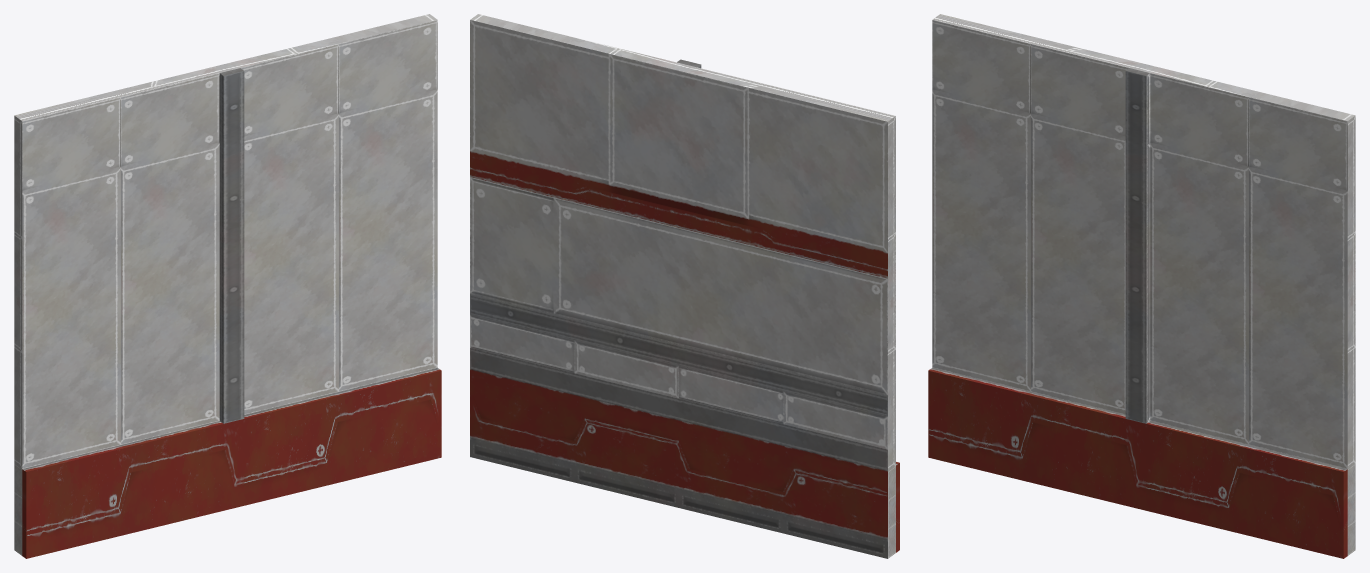
The model's file is SM_Wall_Standard_A.fbx.
The picture shows the model from 3 angles, left to right: view 1: azimuth 30°, elevation 25°; view 2: azimuth 150°, elevation 25°; view 3: azimuth 330°, elevation 25°; orthographic projection.
Visible parts, largest first — view 1: SM_Wall_Standard_A; view 2: SM_Wall_Standard_A; view 3: SM_Wall_Standard_A.
Part boxes in pixels (x1,y1,x2,y2): SM_Wall_Standard_A: [14, 14, 441, 558]; SM_Wall_Standard_A: [470, 14, 899, 558]; SM_Wall_Standard_A: [928, 14, 1355, 558].
Size of the model in its own units: 200 by 200 by 10.
1 material, 1 textured.
